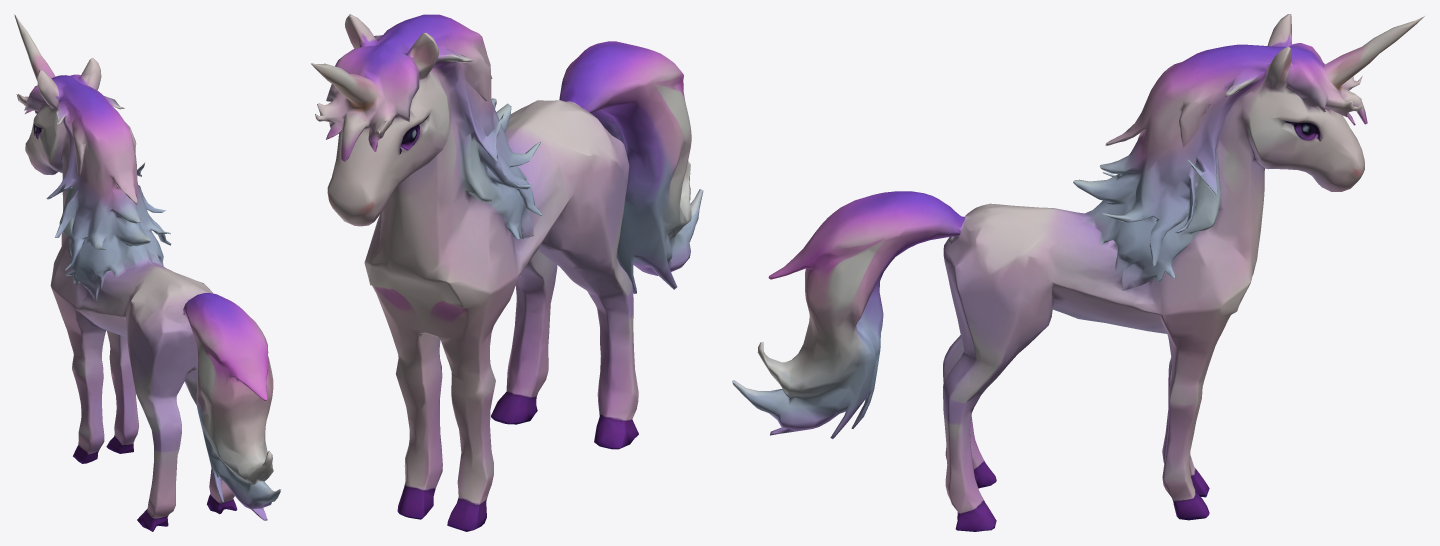
File: UnicornioMesh.fbx
3 renders of one model, left to right at view 1: azimuth 30°, elevation 25°; view 2: azimuth 150°, elevation 25°; view 3: azimuth 270°, elevation 25°, orthographic. The views are drawn at different scales.
Parts seen in each view (by area): view 1: tripo_node_92ab4b0f; view 2: tripo_node_92ab4b0f; view 3: tripo_node_92ab4b0f.
Part boxes in pixels (x1,y1,x2,y2): tripo_node_92ab4b0f: [14, 14, 281, 531]; tripo_node_92ab4b0f: [311, 14, 703, 531]; tripo_node_92ab4b0f: [732, 14, 1424, 531].
Size of the model in its own units: 24.17 by 100 by 77.81.
